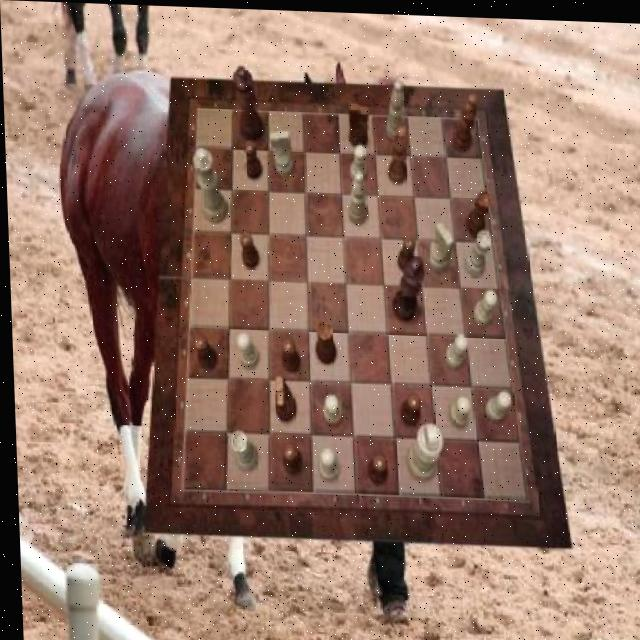bishop: (450, 90, 478, 149), (385, 123, 407, 181)
black-bishop: (389, 253, 423, 320)
black-king: (270, 374, 294, 420), (347, 101, 369, 145)
black-knight: (193, 333, 217, 368), (239, 230, 259, 268), (396, 232, 416, 270), (397, 390, 419, 424), (243, 138, 261, 177), (280, 336, 299, 371), (279, 440, 299, 473), (364, 452, 385, 483)
black-pawn: (231, 63, 263, 139)
black-queen: (464, 187, 492, 235), (312, 319, 334, 364)
black-rook: (384, 76, 403, 138), (346, 168, 367, 223)
white-bishop: (402, 419, 441, 479)
white-king: (426, 220, 452, 270), (268, 128, 292, 176)
white-knight: (471, 286, 496, 324), (481, 387, 509, 419), (443, 329, 467, 365), (234, 331, 258, 366), (316, 446, 337, 480), (447, 392, 468, 426), (348, 142, 366, 180), (321, 392, 341, 424)
white-pawn: (192, 147, 227, 223)
white-queen: (463, 227, 492, 274), (229, 429, 255, 470)
